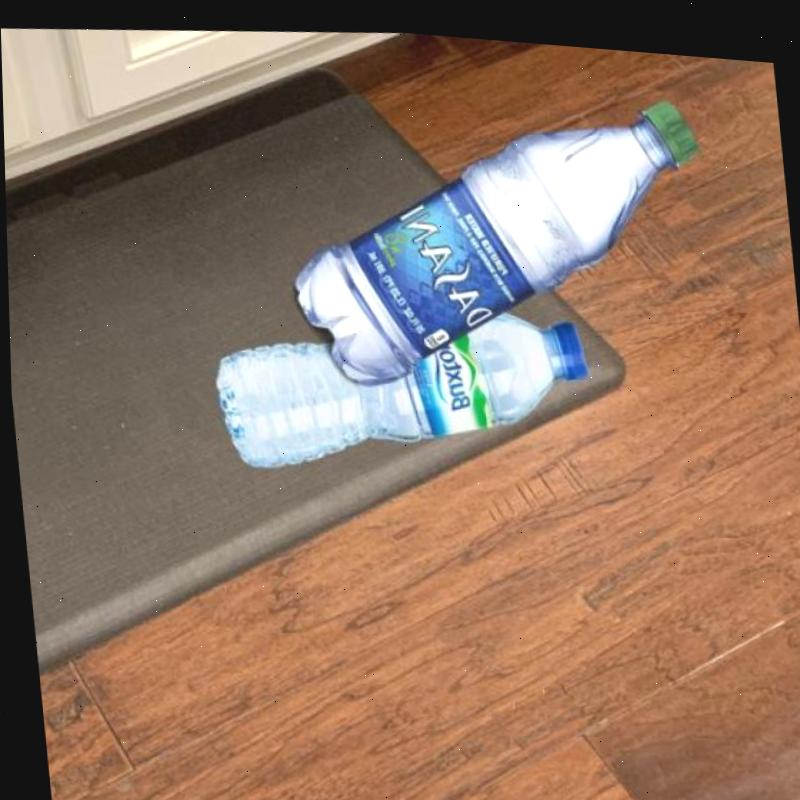botella: (275, 58, 715, 406), (202, 276, 596, 488)
